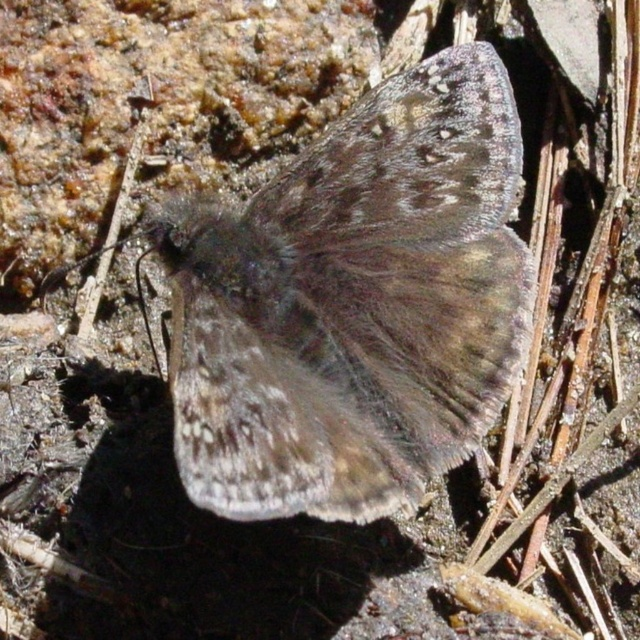Butterfly: (35, 37, 541, 525)
